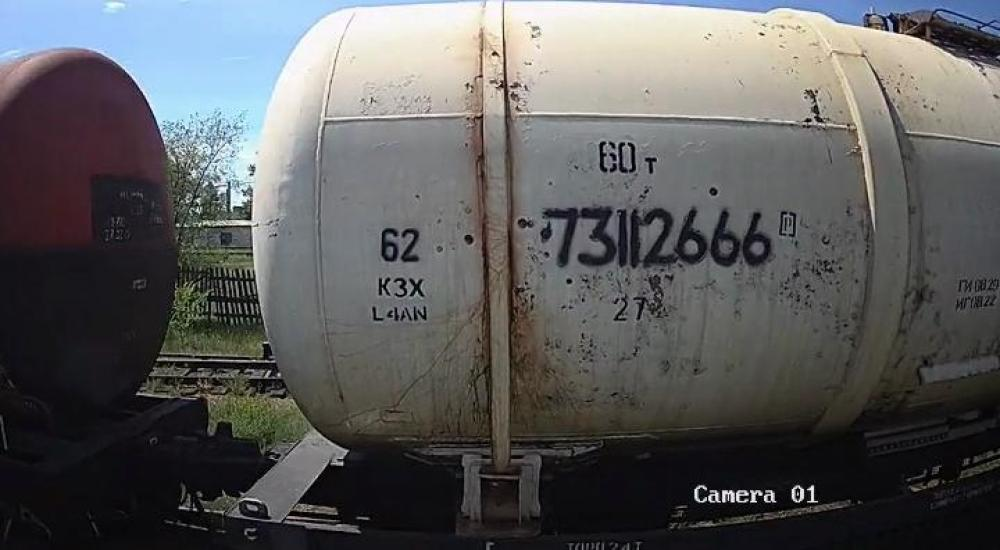Wagon-number: (543, 201, 777, 274)
